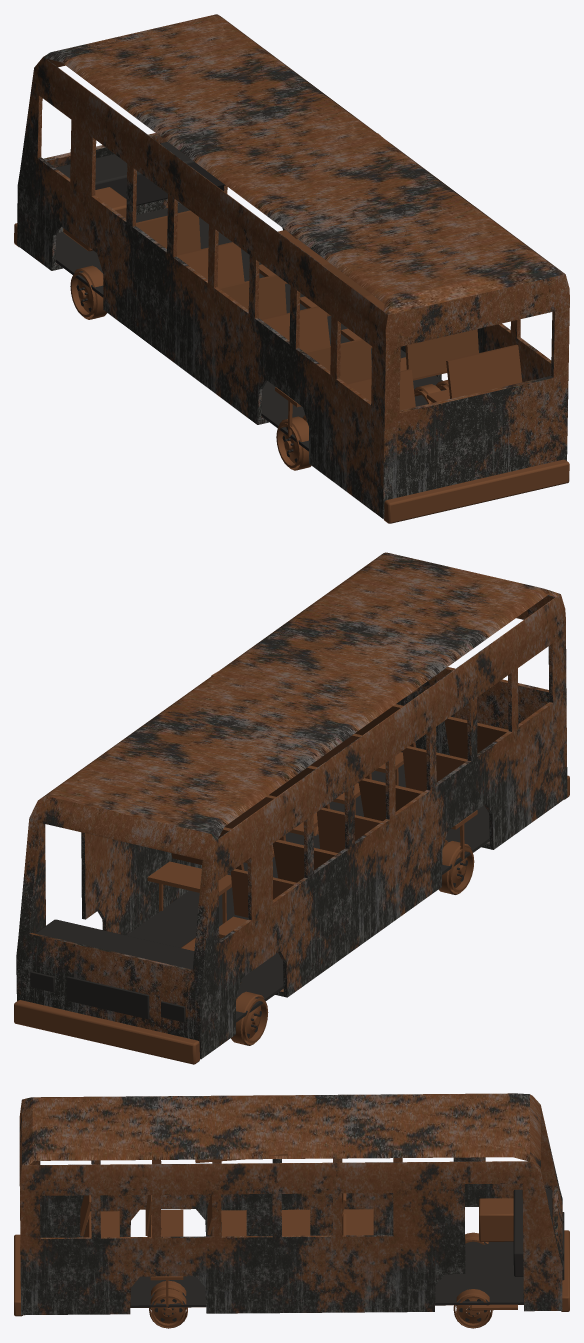
Rendered from bus_wreck.glb.
The picture shows the model from 3 angles, top to bottom: view 1: azimuth 30°, elevation 25°; view 2: azimuth 150°, elevation 25°; view 3: azimuth 270°, elevation 25°; orthographic projection. The views are drawn at different scales.
Visible parts, largest first — view 1: body; view 2: body; view 3: body.
Boxes of the visible parts, x1,y1,x2,y2 form: body: [14, 14, 569, 523]; body: [14, 552, 569, 1064]; body: [14, 1093, 569, 1328].
Size of the model in its own units: 2.06 by 2.53 by 7.18.
Materials: 3 (1 with a texture image).
